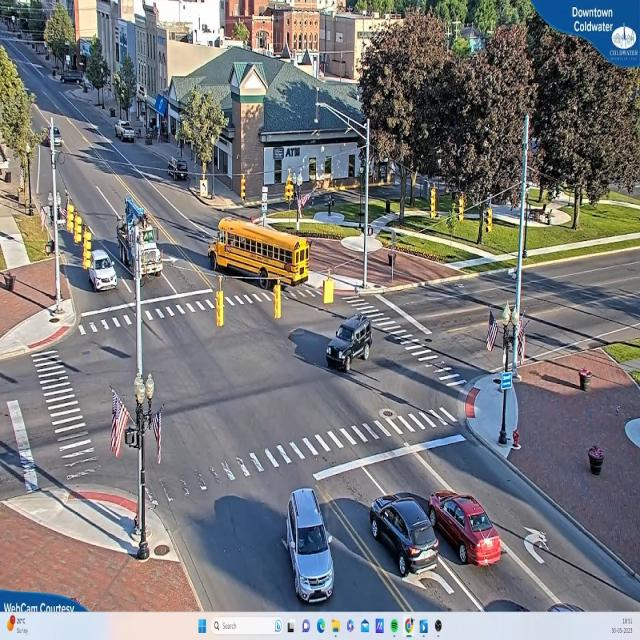bus: (210, 220, 311, 286)
car: (369, 492, 442, 578), (427, 491, 506, 568), (284, 490, 334, 603), (326, 308, 376, 388), (88, 244, 116, 293), (117, 122, 137, 145)
truck: (115, 193, 158, 283)
